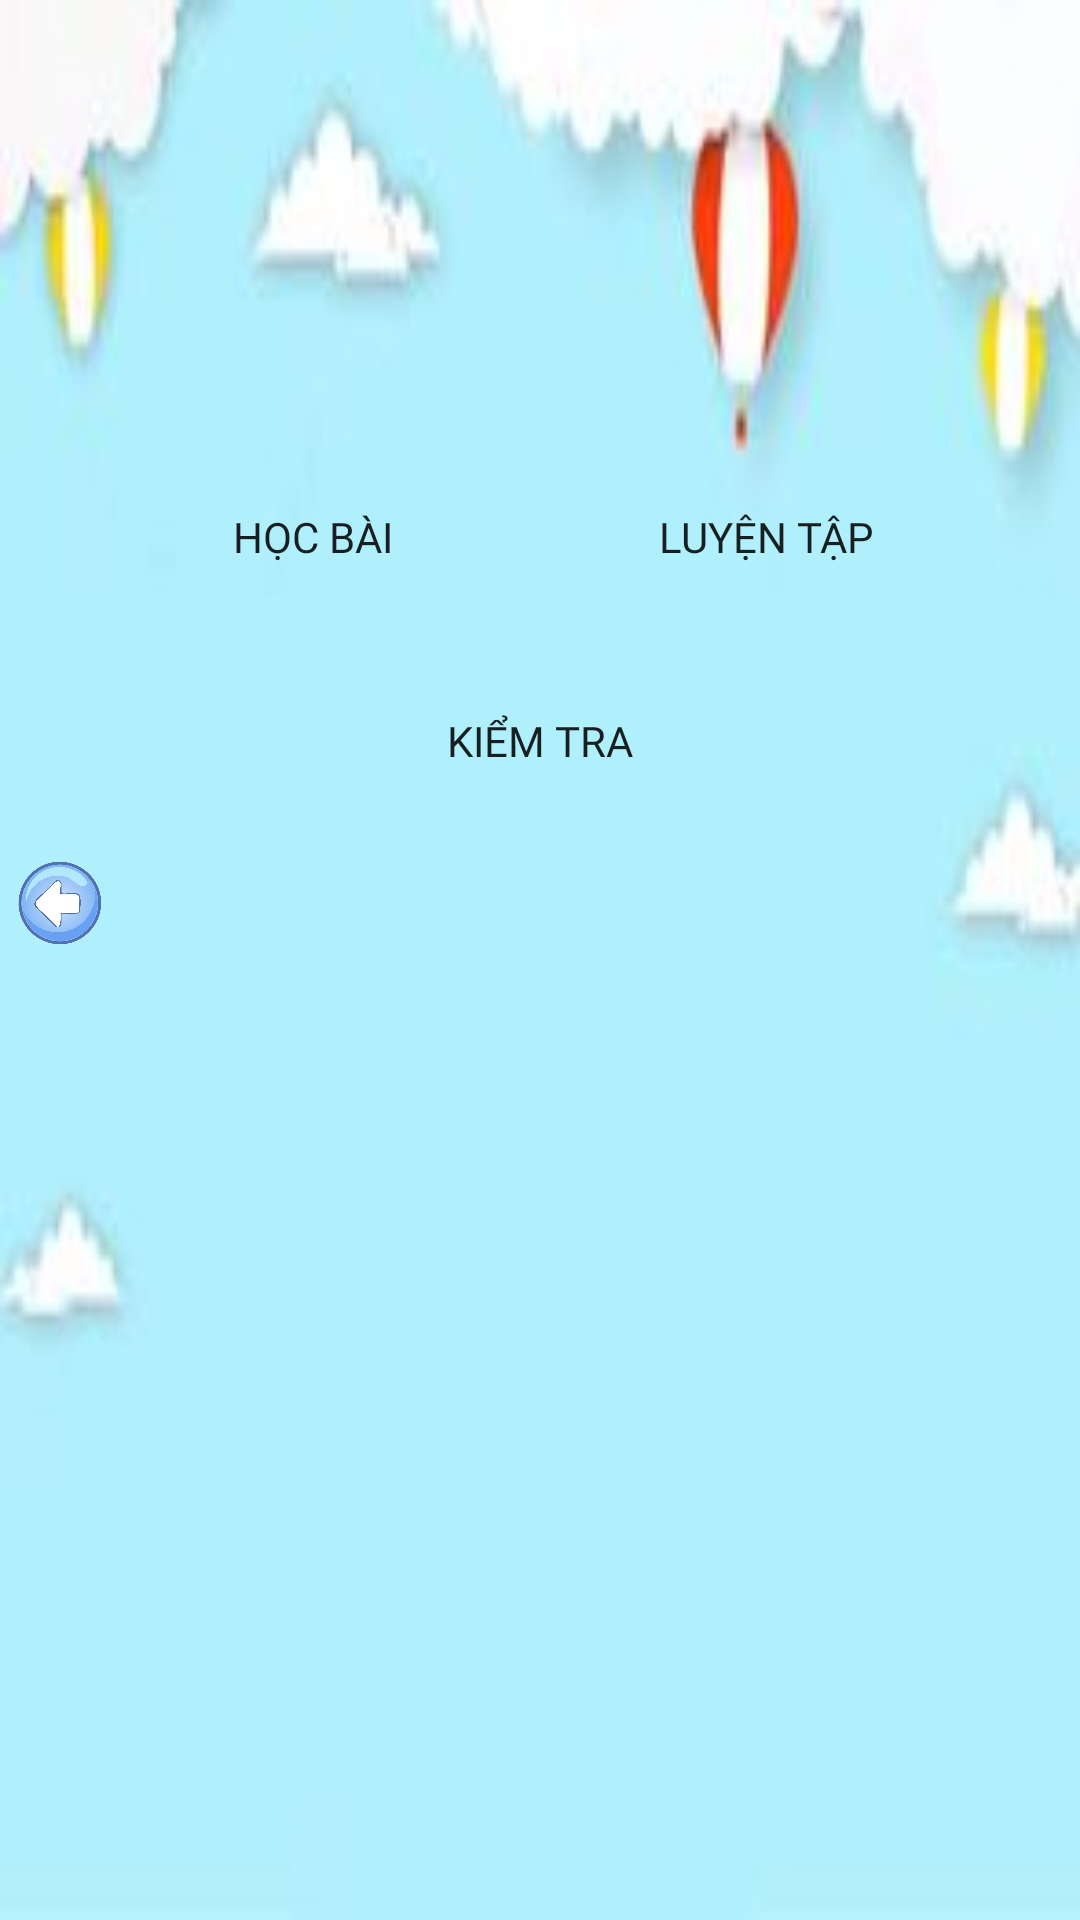

Icon click points for this 1080px×1920px phone screenshot, format (x,y):
quaylai: (59,903)
